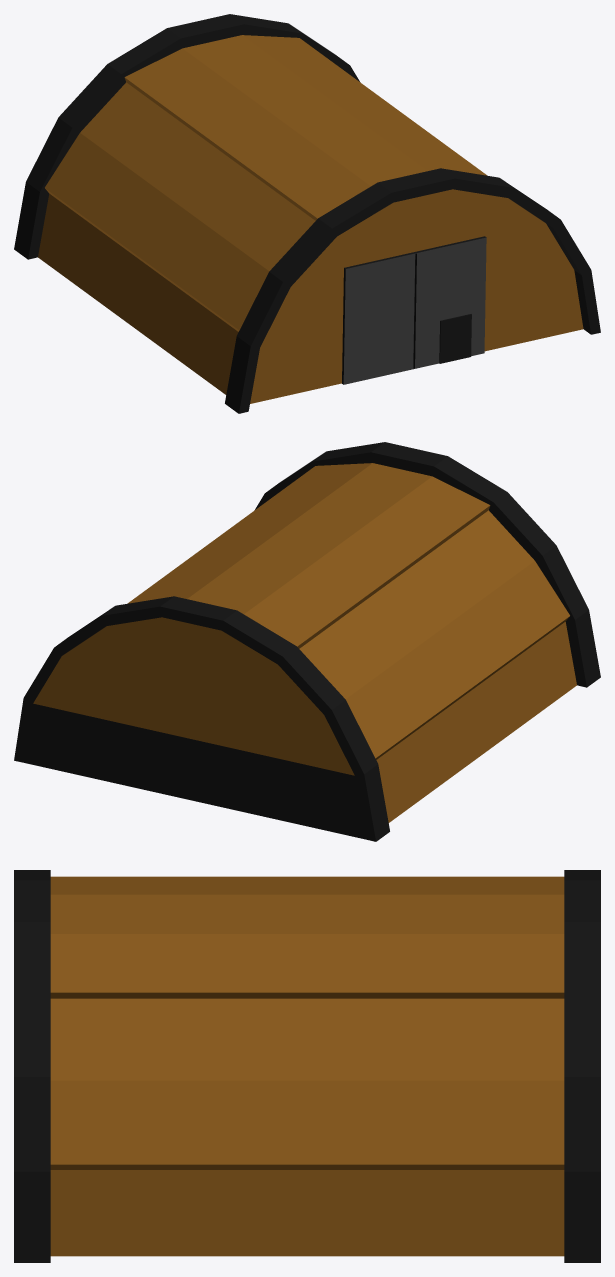
File: Bunker_Soldados_Arena.FBX
3 views of the same model, one above another, from view 1: azimuth 30°, elevation 25°; view 2: azimuth 150°, elevation 25°; view 3: azimuth 270°, elevation 25° (orthographic). The views are drawn at different scales.
Visible parts, largest first — view 1: Bunker_Vehiculos002; view 2: Bunker_Vehiculos002; view 3: Bunker_Vehiculos002.
Part boxes in pixels (x1,y1,x2,y2): Bunker_Vehiculos002: [14, 14, 600, 413]; Bunker_Vehiculos002: [14, 442, 600, 841]; Bunker_Vehiculos002: [14, 870, 600, 1262].
Bounding box in the file's own units: 2107 × 1062 × 2265.
